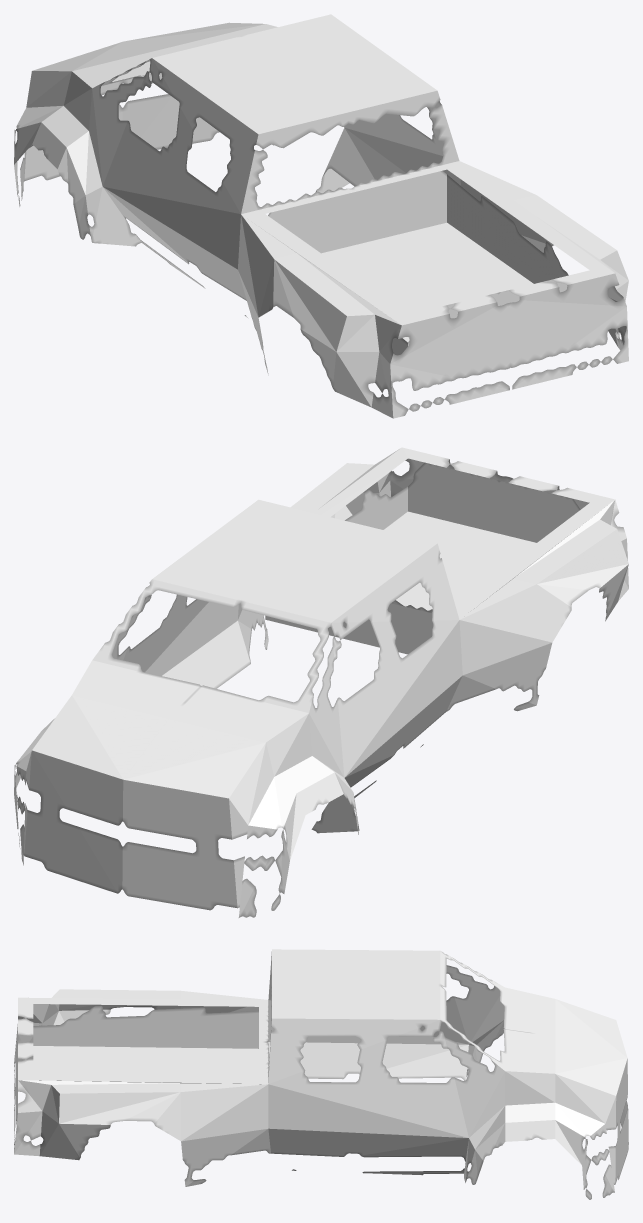
The model's file is gta_truck_color.obj.
3 renders of one model, top to bottom at view 1: azimuth 30°, elevation 25°; view 2: azimuth 150°, elevation 25°; view 3: azimuth 270°, elevation 25°, orthographic. The views are drawn at different scales.
Parts seen in each view (by area): view 1: gta_truck__Plane; view 2: gta_truck__Plane; view 3: gta_truck__Plane.
Part boxes in pixels (x1,y1,x2,y2): gta_truck__Plane: (14, 14, 628, 418); gta_truck__Plane: (14, 447, 628, 917); gta_truck__Plane: (14, 949, 628, 1199).
Size of the model in its own units: 4.76 by 3.34 by 10.69.
